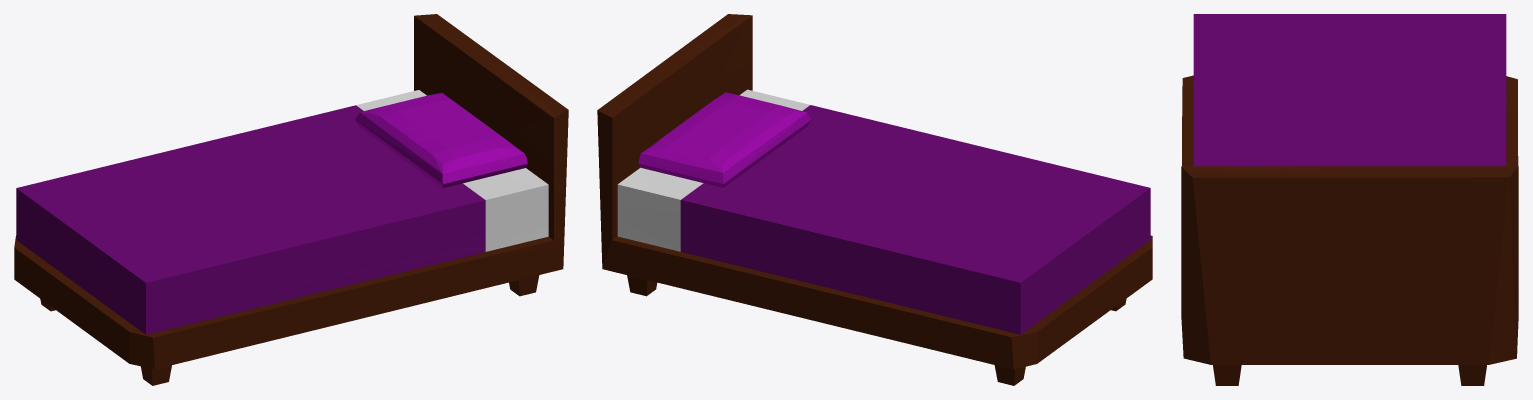
Rendered from pc Bed.fbx.
The picture shows the model from 3 angles, left to right: view 1: azimuth 30°, elevation 25°; view 2: azimuth 150°, elevation 25°; view 3: azimuth 270°, elevation 25°; orthographic projection. The views are drawn at different scales.
Visible parts, largest first — view 1: Cube; view 2: Cube; view 3: Cube.
Boxes of the visible parts, left/top/right/bottom form: Cube: left=14, top=14, right=568, bottom=385; Cube: left=597, top=14, right=1152, bottom=385; Cube: left=1181, top=14, right=1518, bottom=385.
Size of the model in its own units: 716 by 290 by 400.
